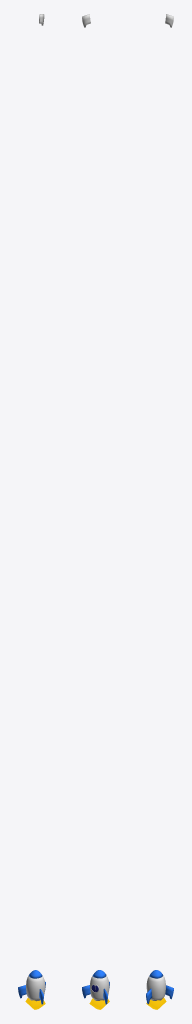
The model's file is rocketv3.glb.
3 views of the same model, side by side, from view 1: azimuth 30°, elevation 25°; view 2: azimuth 150°, elevation 25°; view 3: azimuth 330°, elevation 25° (orthographic).
Visible parts, largest first — view 1: Cube, Cube.009; view 2: Cube, Cube.009; view 3: Cube, Cube.009.
Boxes of the visible parts, box(x1,y1,x2,y2) form: Cube: box(26, 975, 45, 999); Cube.009: box(25, 998, 45, 1009); Cube: box(90, 975, 109, 999); Cube.009: box(89, 998, 109, 1009); Cube: box(146, 975, 165, 999); Cube.009: box(146, 997, 166, 1009).
Bounding box in the file's own units: 3.49 × 123 × 3.14.
